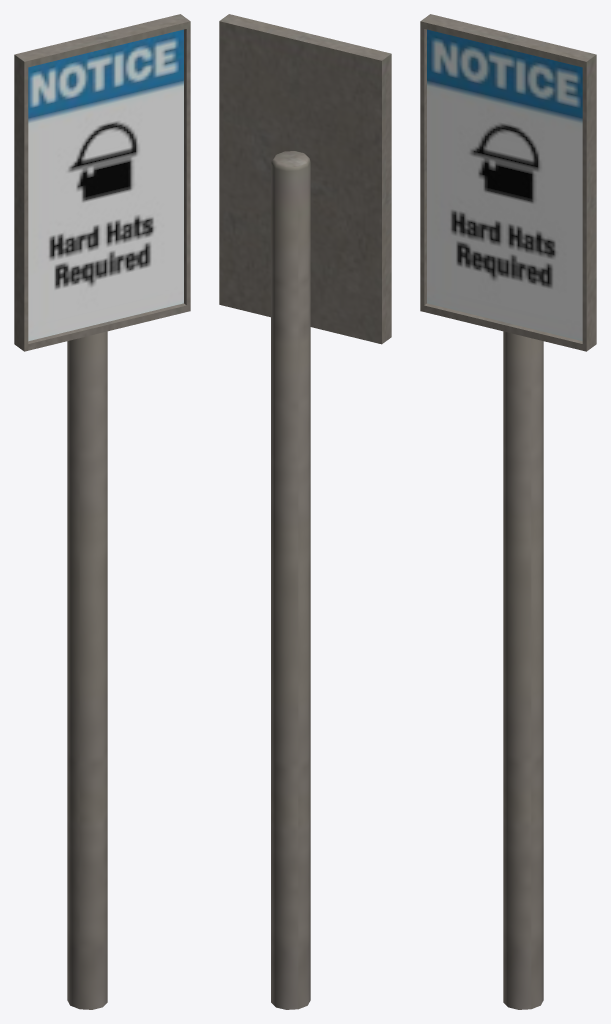
Rendered from panneau_casque.glb.
The picture shows the model from 3 angles, left to right: view 1: azimuth 30°, elevation 25°; view 2: azimuth 150°, elevation 25°; view 3: azimuth 330°, elevation 25°; orthographic projection. The views are drawn at different scales.
Visible parts, largest first — view 1: Hard_Hats_Required_Sign; view 2: Hard_Hats_Required_Sign; view 3: Hard_Hats_Required_Sign.
Boxes of the visible parts, box(x1,y1,x2,y2) form: Hard_Hats_Required_Sign: box(14, 14, 190, 1009); Hard_Hats_Required_Sign: box(219, 14, 391, 1009); Hard_Hats_Required_Sign: box(420, 14, 596, 1009).
Size of the model in its own units: 0.288 by 1.61 by 0.09.
Materials: 2 (2 with a texture image).
